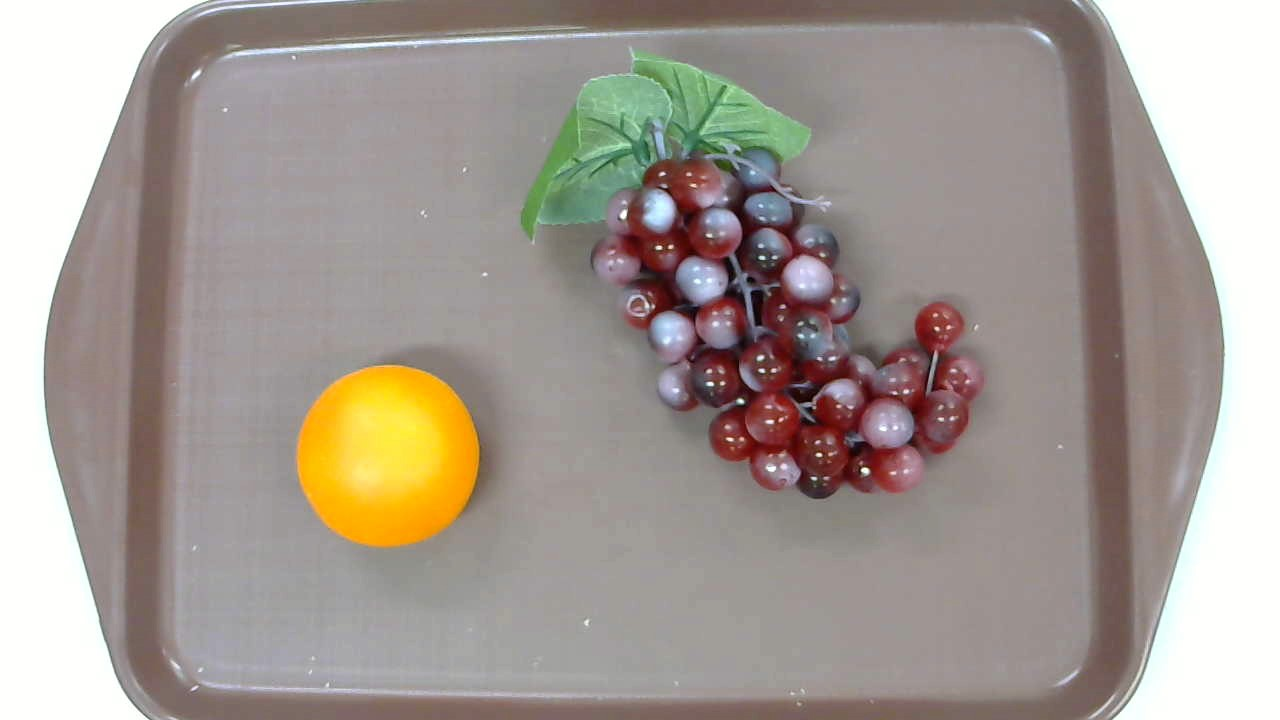bun: (296, 364, 480, 546)
grape: (521, 47, 984, 499)
